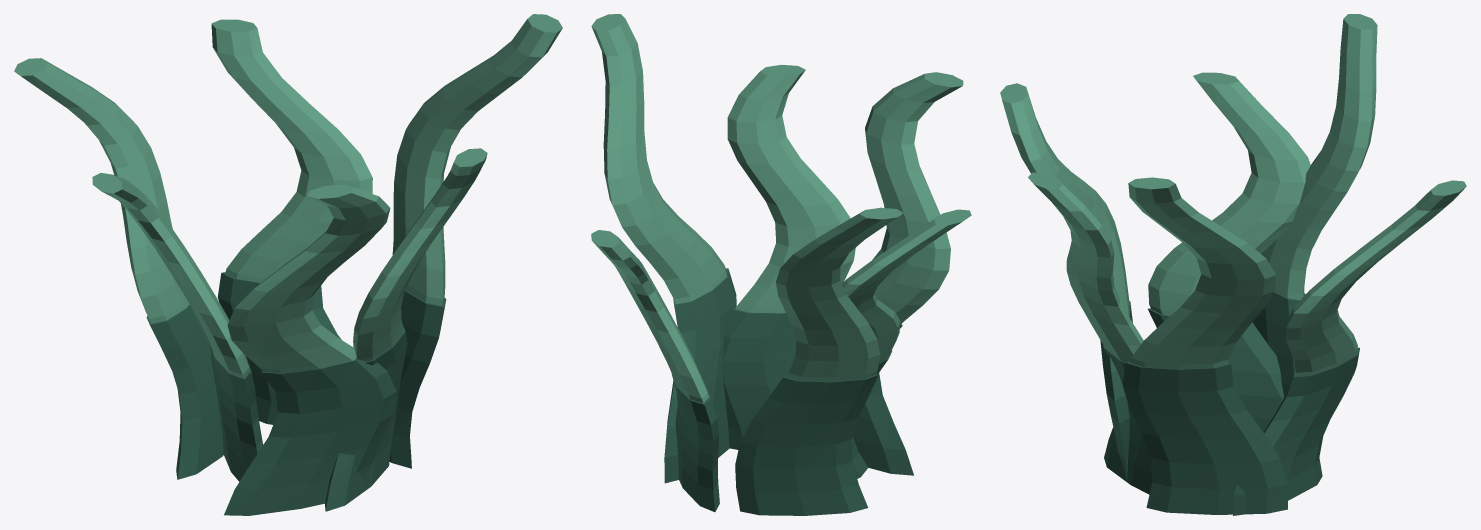
File: vge_oxyalgae_plant_a.obj
3 views of the same model, side by side, from view 1: azimuth 30°, elevation 25°; view 2: azimuth 150°, elevation 25°; view 3: azimuth 270°, elevation 25° (orthographic). The views are drawn at different scales.
Visible parts, largest first — view 1: vge_oxyalgae_plant_a_8, vge_oxyalgae_plant_a_3, vge_oxyalgae_plant_a_9, vge_oxyalgae_plant_a_1, vge_oxyalgae_plant_a_5, vge_oxyalgae_plant_a_11, vge_oxyalgae_plant_a_4, vge_oxyalgae_plant_a_7, vge_oxyalgae_plant_a_0, vge_oxyalgae_plant_a_6, vge_oxyalgae_plant_a_10, vge_oxyalgae_plant_a_2; view 2: vge_oxyalgae_plant_a_4, vge_oxyalgae_plant_a_1, vge_oxyalgae_plant_a_11, vge_oxyalgae_plant_a_9, vge_oxyalgae_plant_a_5, vge_oxyalgae_plant_a_10, vge_oxyalgae_plant_a_0, vge_oxyalgae_plant_a_3, vge_oxyalgae_plant_a_7, vge_oxyalgae_plant_a_2, vge_oxyalgae_plant_a_8, vge_oxyalgae_plant_a_6; view 3: vge_oxyalgae_plant_a_0, vge_oxyalgae_plant_a_1, vge_oxyalgae_plant_a_7, vge_oxyalgae_plant_a_5, vge_oxyalgae_plant_a_3, vge_oxyalgae_plant_a_11, vge_oxyalgae_plant_a_2, vge_oxyalgae_plant_a_9, vge_oxyalgae_plant_a_6, vge_oxyalgae_plant_a_10, vge_oxyalgae_plant_a_4, vge_oxyalgae_plant_a_8.
Boxes of the visible parts, x1,y1,x2,y2 form: vge_oxyalgae_plant_a_8: (224,358,396,515); vge_oxyalgae_plant_a_3: (211,19,372,282); vge_oxyalgae_plant_a_9: (227,184,390,373); vge_oxyalgae_plant_a_1: (392,14,562,305); vge_oxyalgae_plant_a_5: (14,58,189,323); vge_oxyalgae_plant_a_11: (353,148,487,361); vge_oxyalgae_plant_a_4: (146,304,223,479); vge_oxyalgae_plant_a_7: (92,173,249,377); vge_oxyalgae_plant_a_0: (389,290,446,468); vge_oxyalgae_plant_a_6: (209,341,263,481); vge_oxyalgae_plant_a_10: (324,324,407,511); vge_oxyalgae_plant_a_2: (217,272,341,424); vge_oxyalgae_plant_a_4: (735,374,878,515); vge_oxyalgae_plant_a_1: (591,14,727,304); vge_oxyalgae_plant_a_11: (727,64,855,313); vge_oxyalgae_plant_a_9: (865,72,963,324); vge_oxyalgae_plant_a_5: (775,207,902,381); vge_oxyalgae_plant_a_10: (723,308,796,449); vge_oxyalgae_plant_a_0: (664,268,736,483); vge_oxyalgae_plant_a_3: (591,230,708,403); vge_oxyalgae_plant_a_7: (842,209,971,362); vge_oxyalgae_plant_a_2: (671,373,719,511); vge_oxyalgae_plant_a_8: (853,324,913,475); vge_oxyalgae_plant_a_6: (852,351,892,478); vge_oxyalgae_plant_a_0: (1122,361,1287,514); vge_oxyalgae_plant_a_1: (1128,177,1275,369); vge_oxyalgae_plant_a_7: (1148,72,1310,315); vge_oxyalgae_plant_a_5: (1261,14,1377,300); vge_oxyalgae_plant_a_3: (1286,180,1466,376); vge_oxyalgae_plant_a_11: (1028,172,1143,362); vge_oxyalgae_plant_a_2: (1233,347,1359,515); vge_oxyalgae_plant_a_9: (1000,83,1129,315); vge_oxyalgae_plant_a_6: (1148,308,1284,431); vge_oxyalgae_plant_a_10: (1103,345,1152,494); vge_oxyalgae_plant_a_4: (1252,292,1305,396); vge_oxyalgae_plant_a_8: (1100,301,1132,480).
Bounding box in the file's own units: 0.5657 × 0.5109 × 0.5581.
